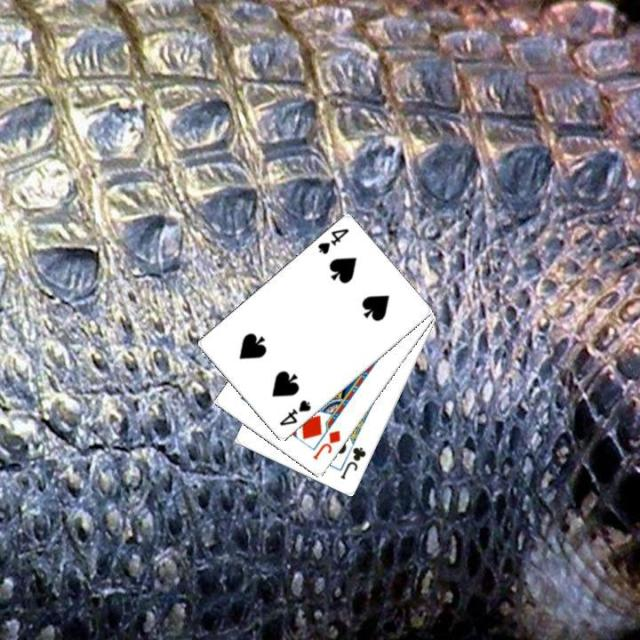4S: (275, 397, 313, 428), (314, 225, 350, 257)
JC: (336, 444, 368, 482)
JD: (308, 427, 342, 462)
